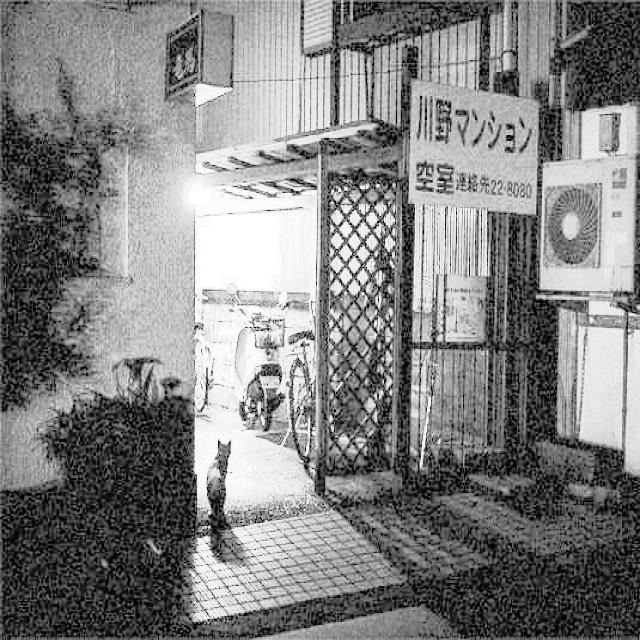Bicycle: (286, 278, 326, 492)
Cat: (202, 438, 236, 536)
Motorcycle: (225, 284, 286, 440)
